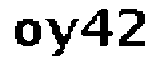2: (117, 5, 150, 51)
4: (78, 8, 117, 49)
o: (9, 15, 43, 51)
y: (43, 15, 78, 60)
